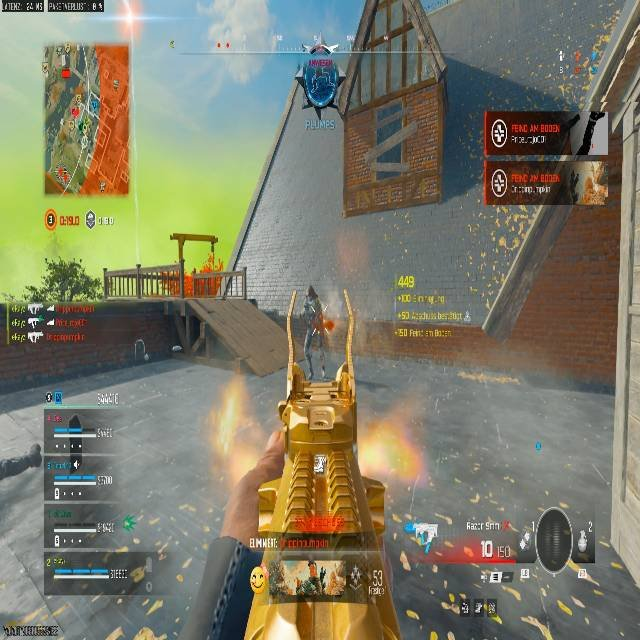player: (485, 506, 606, 640), (298, 38, 341, 123)
